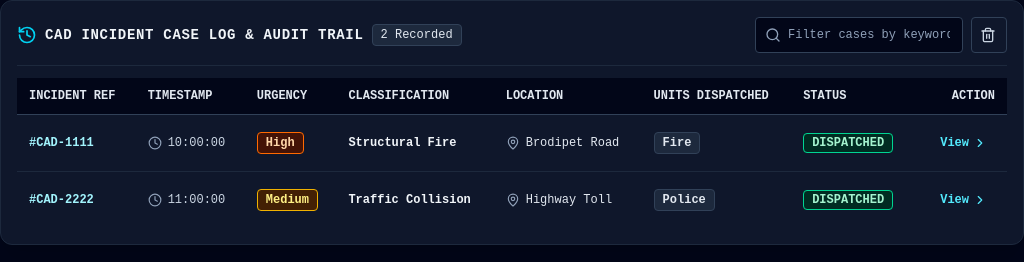
Test: Case Log and History Audit Trail › filters cases when user types in search box
The image size is (1024, 262).
Type "Structural Fire" into the field with placeholder "Filter cases by keyword..." at [859, 35], box [755,17,963,53]
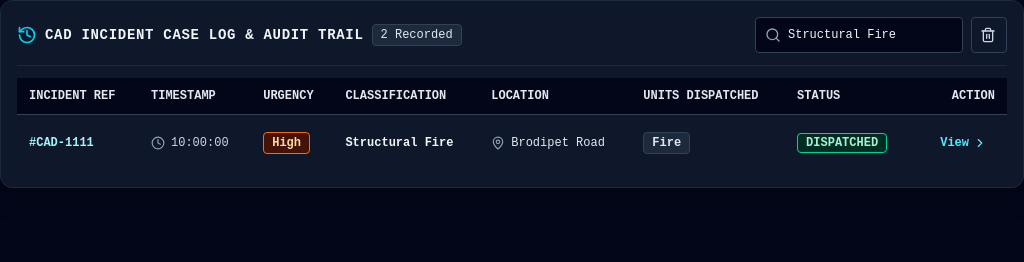
Expected: the text "#CAD-1111" is shown, [17,115,139,171]
Result: the button "#CAD-2222" is gone
